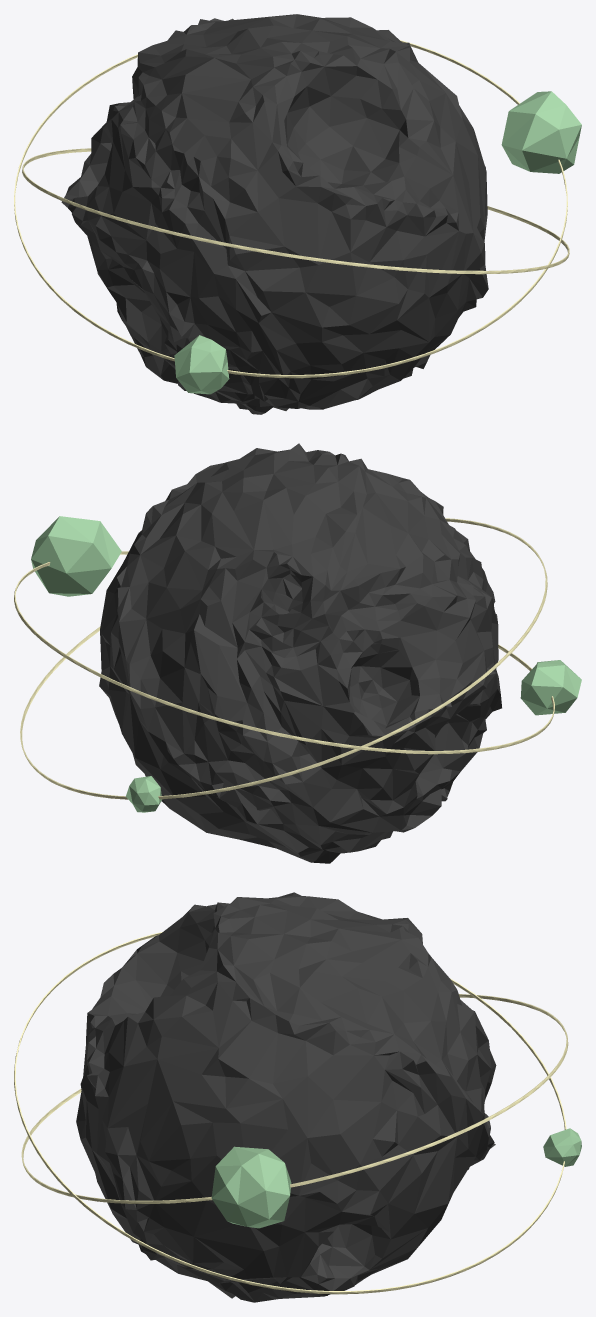
File: Planet_39.glb
3 views of the same model, one above another, from view 1: azimuth 30°, elevation 25°; view 2: azimuth 150°, elevation 25°; view 3: azimuth 270°, elevation 25° (orthographic).
Visible parts, largest first — view 1: Planet_39; view 2: Planet_39; view 3: Planet_39.
Part boxes in pixels (left/top/right/bottom): Planet_39: left=14, top=14, right=581, bottom=414; Planet_39: left=14, top=443, right=581, bottom=863; Planet_39: left=14, top=892, right=581, bottom=1302.
Size of the model in its own units: 28.93 by 20.56 by 28.05.
1 material, 1 textured.
